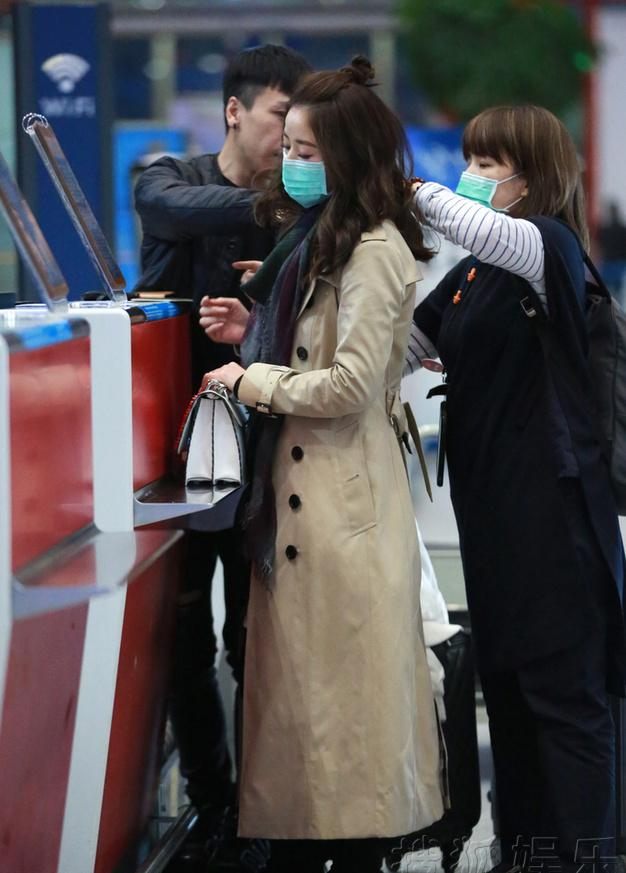face: (240, 79, 299, 172)
face_mask: (265, 97, 322, 200), (461, 135, 518, 228)
